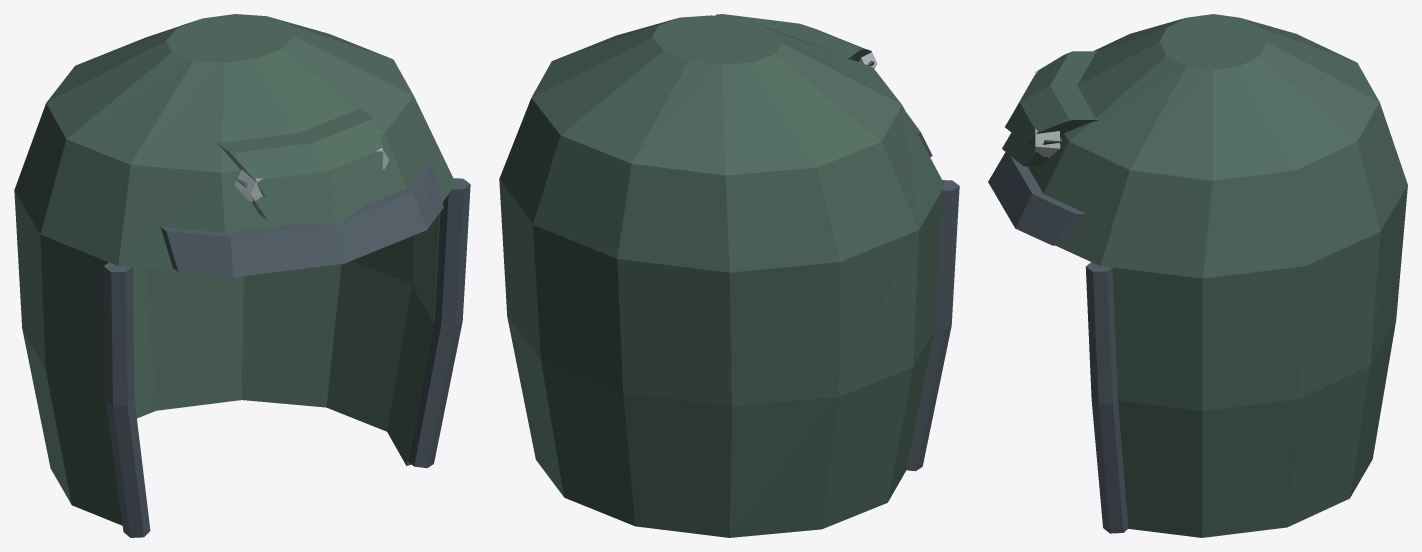
Rendered from studded_head-female-scaledHide.glb.
The picture shows the model from 3 angles, left to right: view 1: azimuth 30°, elevation 25°; view 2: azimuth 150°, elevation 25°; view 3: azimuth 270°, elevation 25°; orthographic projection. The views are drawn at different scales.
Visible parts, largest first — view 1: studded joined crown and nape guard, Fitted brow binding, Lapped hide reinforcement studded joined crown and nape guar (×2), Bound face opening 1, Bound face opening -1; view 2: studded joined crown and nape guard, Bound face opening -1, Lapped hide reinforcement studded joined crown and nape guar; view 3: studded joined crown and nape guard, Bound face opening 1, Lapped hide reinforcement studded joined crown and nape guar (×2), Fitted brow binding, Set rivet studded joined crown and nape guard 1.
Part boxes in pixels (box(x1,y1,x2,y2)): studded joined crown and nape guard: box(14, 14, 455, 525); Fitted brow binding: box(160, 162, 443, 277); Lapped hide reinforcement studded joined crown and nape guar (×2): box(216, 107, 385, 224); Bound face opening 1: box(408, 178, 470, 468); Bound face opening -1: box(104, 262, 150, 537); studded joined crown and nape guard: box(499, 15, 944, 537); Bound face opening -1: box(906, 180, 959, 471); Lapped hide reinforcement studded joined crown and nape guar: box(715, 14, 871, 61); studded joined crown and nape guard: box(1027, 14, 1407, 537); Bound face opening 1: box(1085, 262, 1128, 533); Lapped hide reinforcement studded joined crown and nape guar (×2): box(1002, 51, 1098, 166); Fitted brow binding: box(988, 152, 1086, 245); Set rivet studded joined crown and nape guard 1: box(1035, 129, 1060, 157).
Bounding box in the file's own units: 1.03 × 1.08 × 0.9772.
